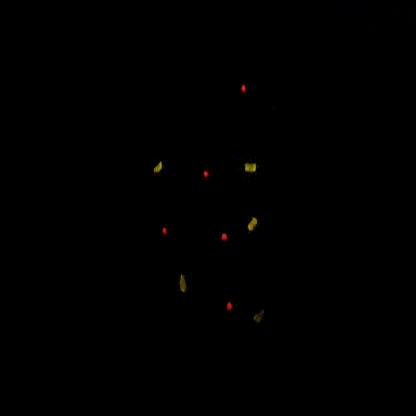PET: (237, 77, 253, 101), (200, 161, 212, 187), (159, 221, 173, 243), (225, 292, 236, 320), (220, 226, 230, 250)
PP: (250, 297, 269, 339), (174, 260, 192, 302), (247, 205, 263, 242), (150, 149, 167, 183), (243, 153, 262, 182)
